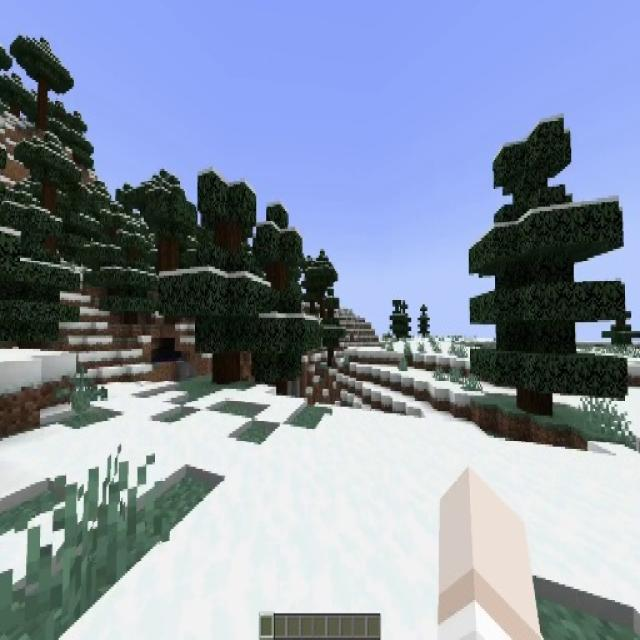spruce: (467, 116, 629, 423), (166, 166, 269, 383), (250, 203, 320, 384), (316, 288, 344, 362), (389, 299, 410, 339), (417, 302, 433, 336)
spruce_log: (517, 386, 553, 416), (213, 352, 240, 386), (158, 241, 178, 270), (38, 82, 48, 131), (44, 183, 56, 212)
